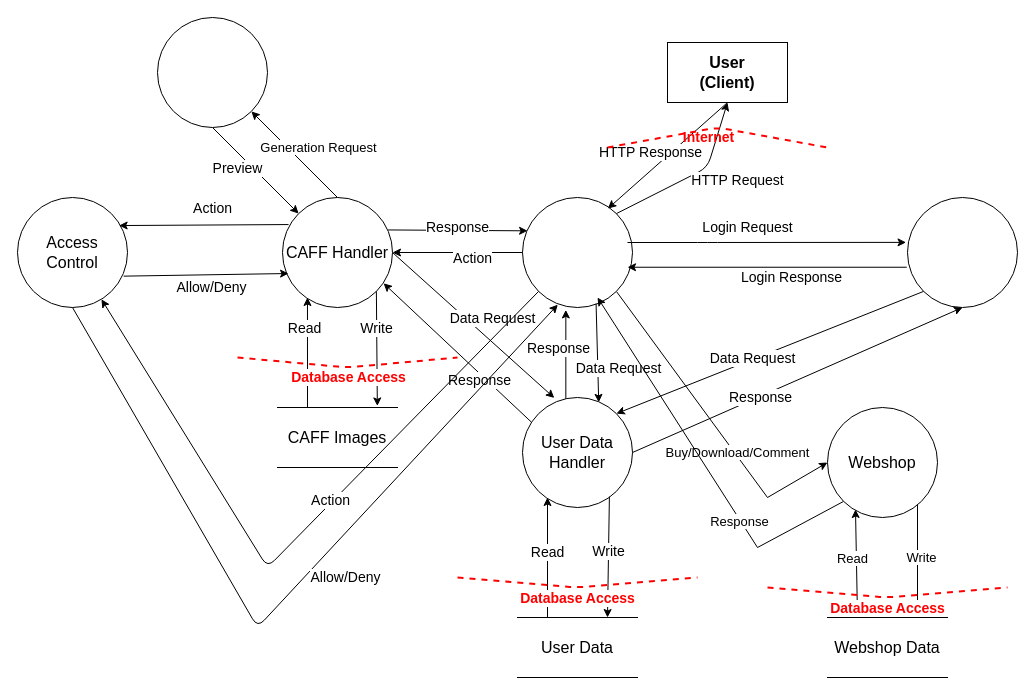
Image size: 1035x695. Some labels were removed from this diagram. The box of each missing label's shape, as (x1, y1, x2, y2) in pixels:
Authentication Component: (906, 196, 1018, 308)
Preview Generator: (156, 16, 268, 128)
Webserver: (522, 196, 632, 308)
